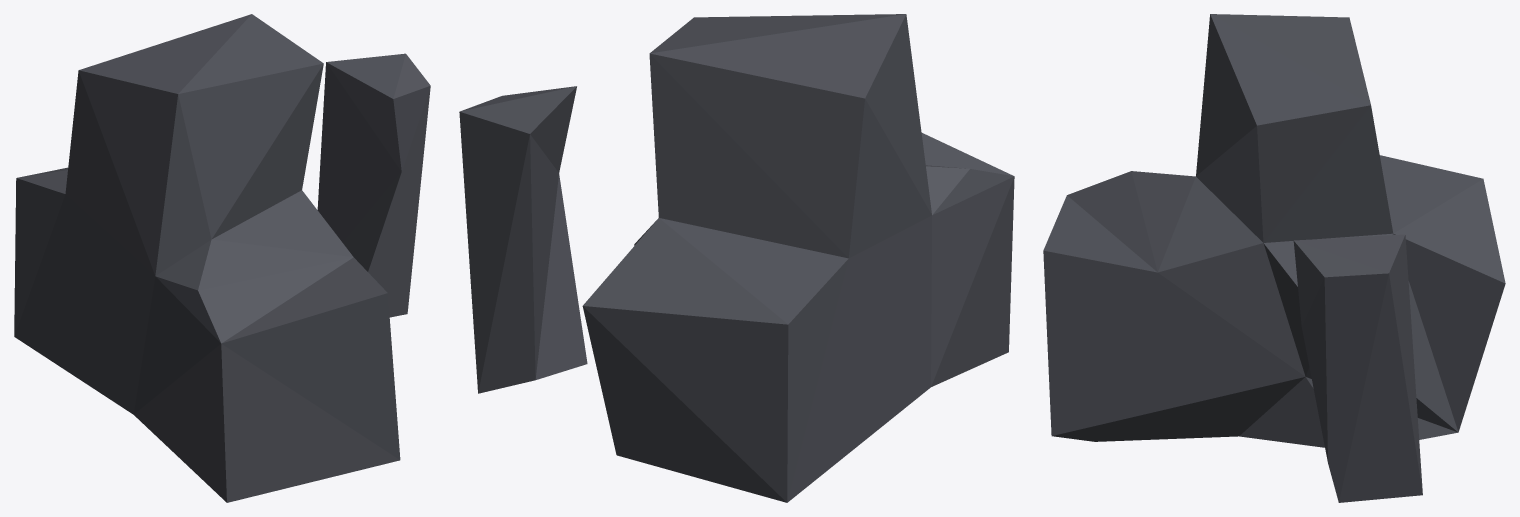
Rendered from RW_HG_Environment_Rocks.002.fbx.
3 views of the same model, side by side, from view 1: azimuth 30°, elevation 25°; view 2: azimuth 150°, elevation 25°; view 3: azimuth 270°, elevation 25° (orthographic). The views are drawn at different scales.
Parts seen in each view (by area): view 1: RW_HG_Environment_Rocks.002; view 2: RW_HG_Environment_Rocks.002; view 3: RW_HG_Environment_Rocks.002.
Part boxes in pixels (box(x1,y1,x2,y2)): RW_HG_Environment_Rocks.002: box(14, 14, 430, 502); RW_HG_Environment_Rocks.002: box(459, 14, 1014, 502); RW_HG_Environment_Rocks.002: box(1043, 14, 1505, 502).
Size of the model in its own units: 1.74 by 1.72 by 1.96.
